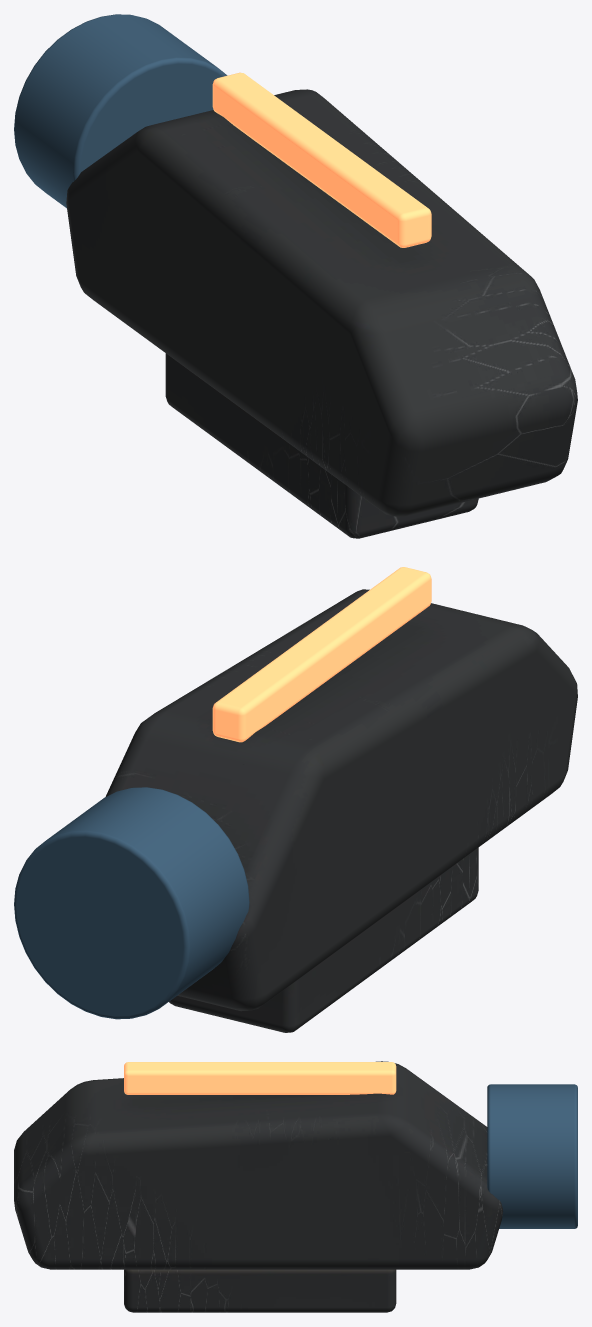
The model's file is marksman_scope.gltf.
The picture shows the model from 3 angles, top to bottom: view 1: azimuth 30°, elevation 25°; view 2: azimuth 150°, elevation 25°; view 3: azimuth 270°, elevation 25°; orthographic projection. The views are drawn at different scales.
Parts seen in each view (by area): view 1: Frame, Objective, FiberOptic; view 2: Frame, Objective, FiberOptic; view 3: Frame, Objective, FiberOptic.
Boxes of the visible parts, x1,y1,x2,y2 form: Frame: (66,89,577,538); Objective: (14,14,227,208); FiberOptic: (212,72,431,247); Frame: (105,589,577,1032); Objective: (14,787,249,1019); FiberOptic: (212,567,431,742); Frame: (14,1061,503,1312); Objective: (487,1084,577,1228); FiberOptic: (124,1062,396,1094).
Bounding box in the file's own units: 0.034 × 0.055 × 0.1242.
Materials: 3 (1 with a texture image).
